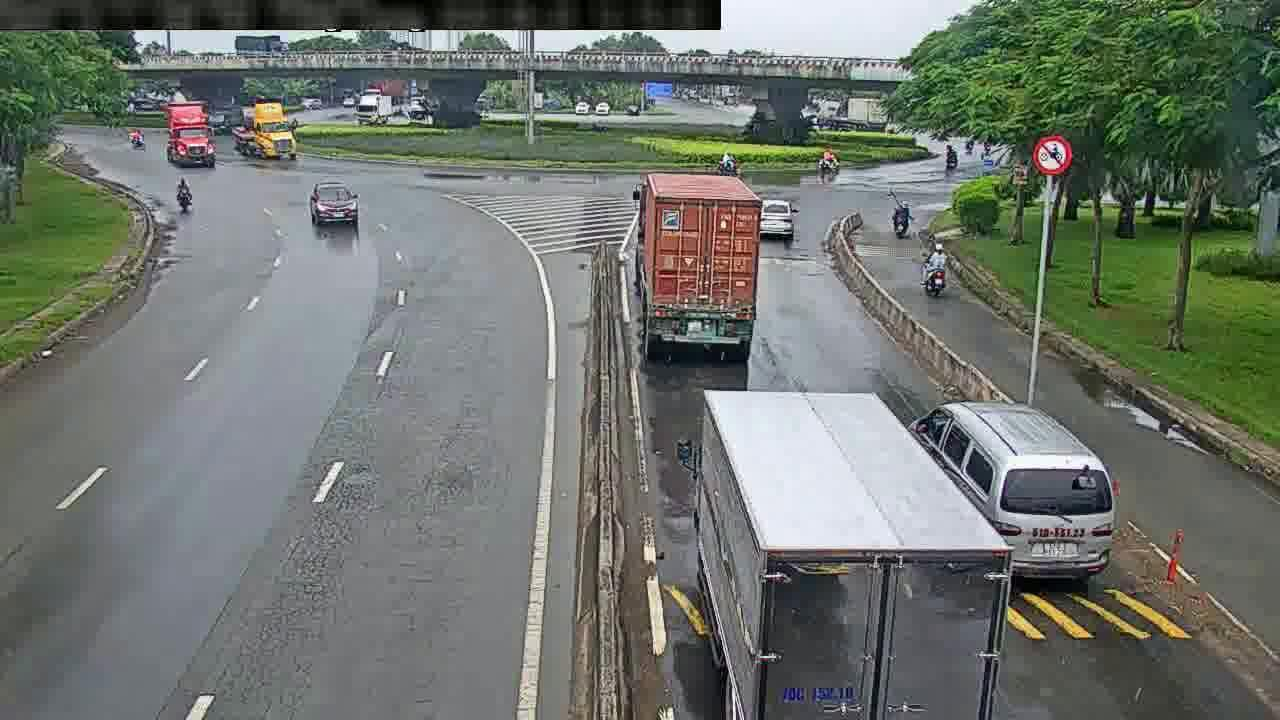car: (303, 177, 366, 224), (753, 195, 803, 239)
container: (678, 381, 1017, 707), (634, 167, 762, 357), (163, 101, 226, 172), (231, 101, 303, 159)
motorbike: (922, 241, 948, 292), (890, 200, 910, 242), (174, 175, 193, 215), (814, 151, 840, 173), (719, 151, 741, 170)
passenger_car: (908, 398, 1120, 589)
